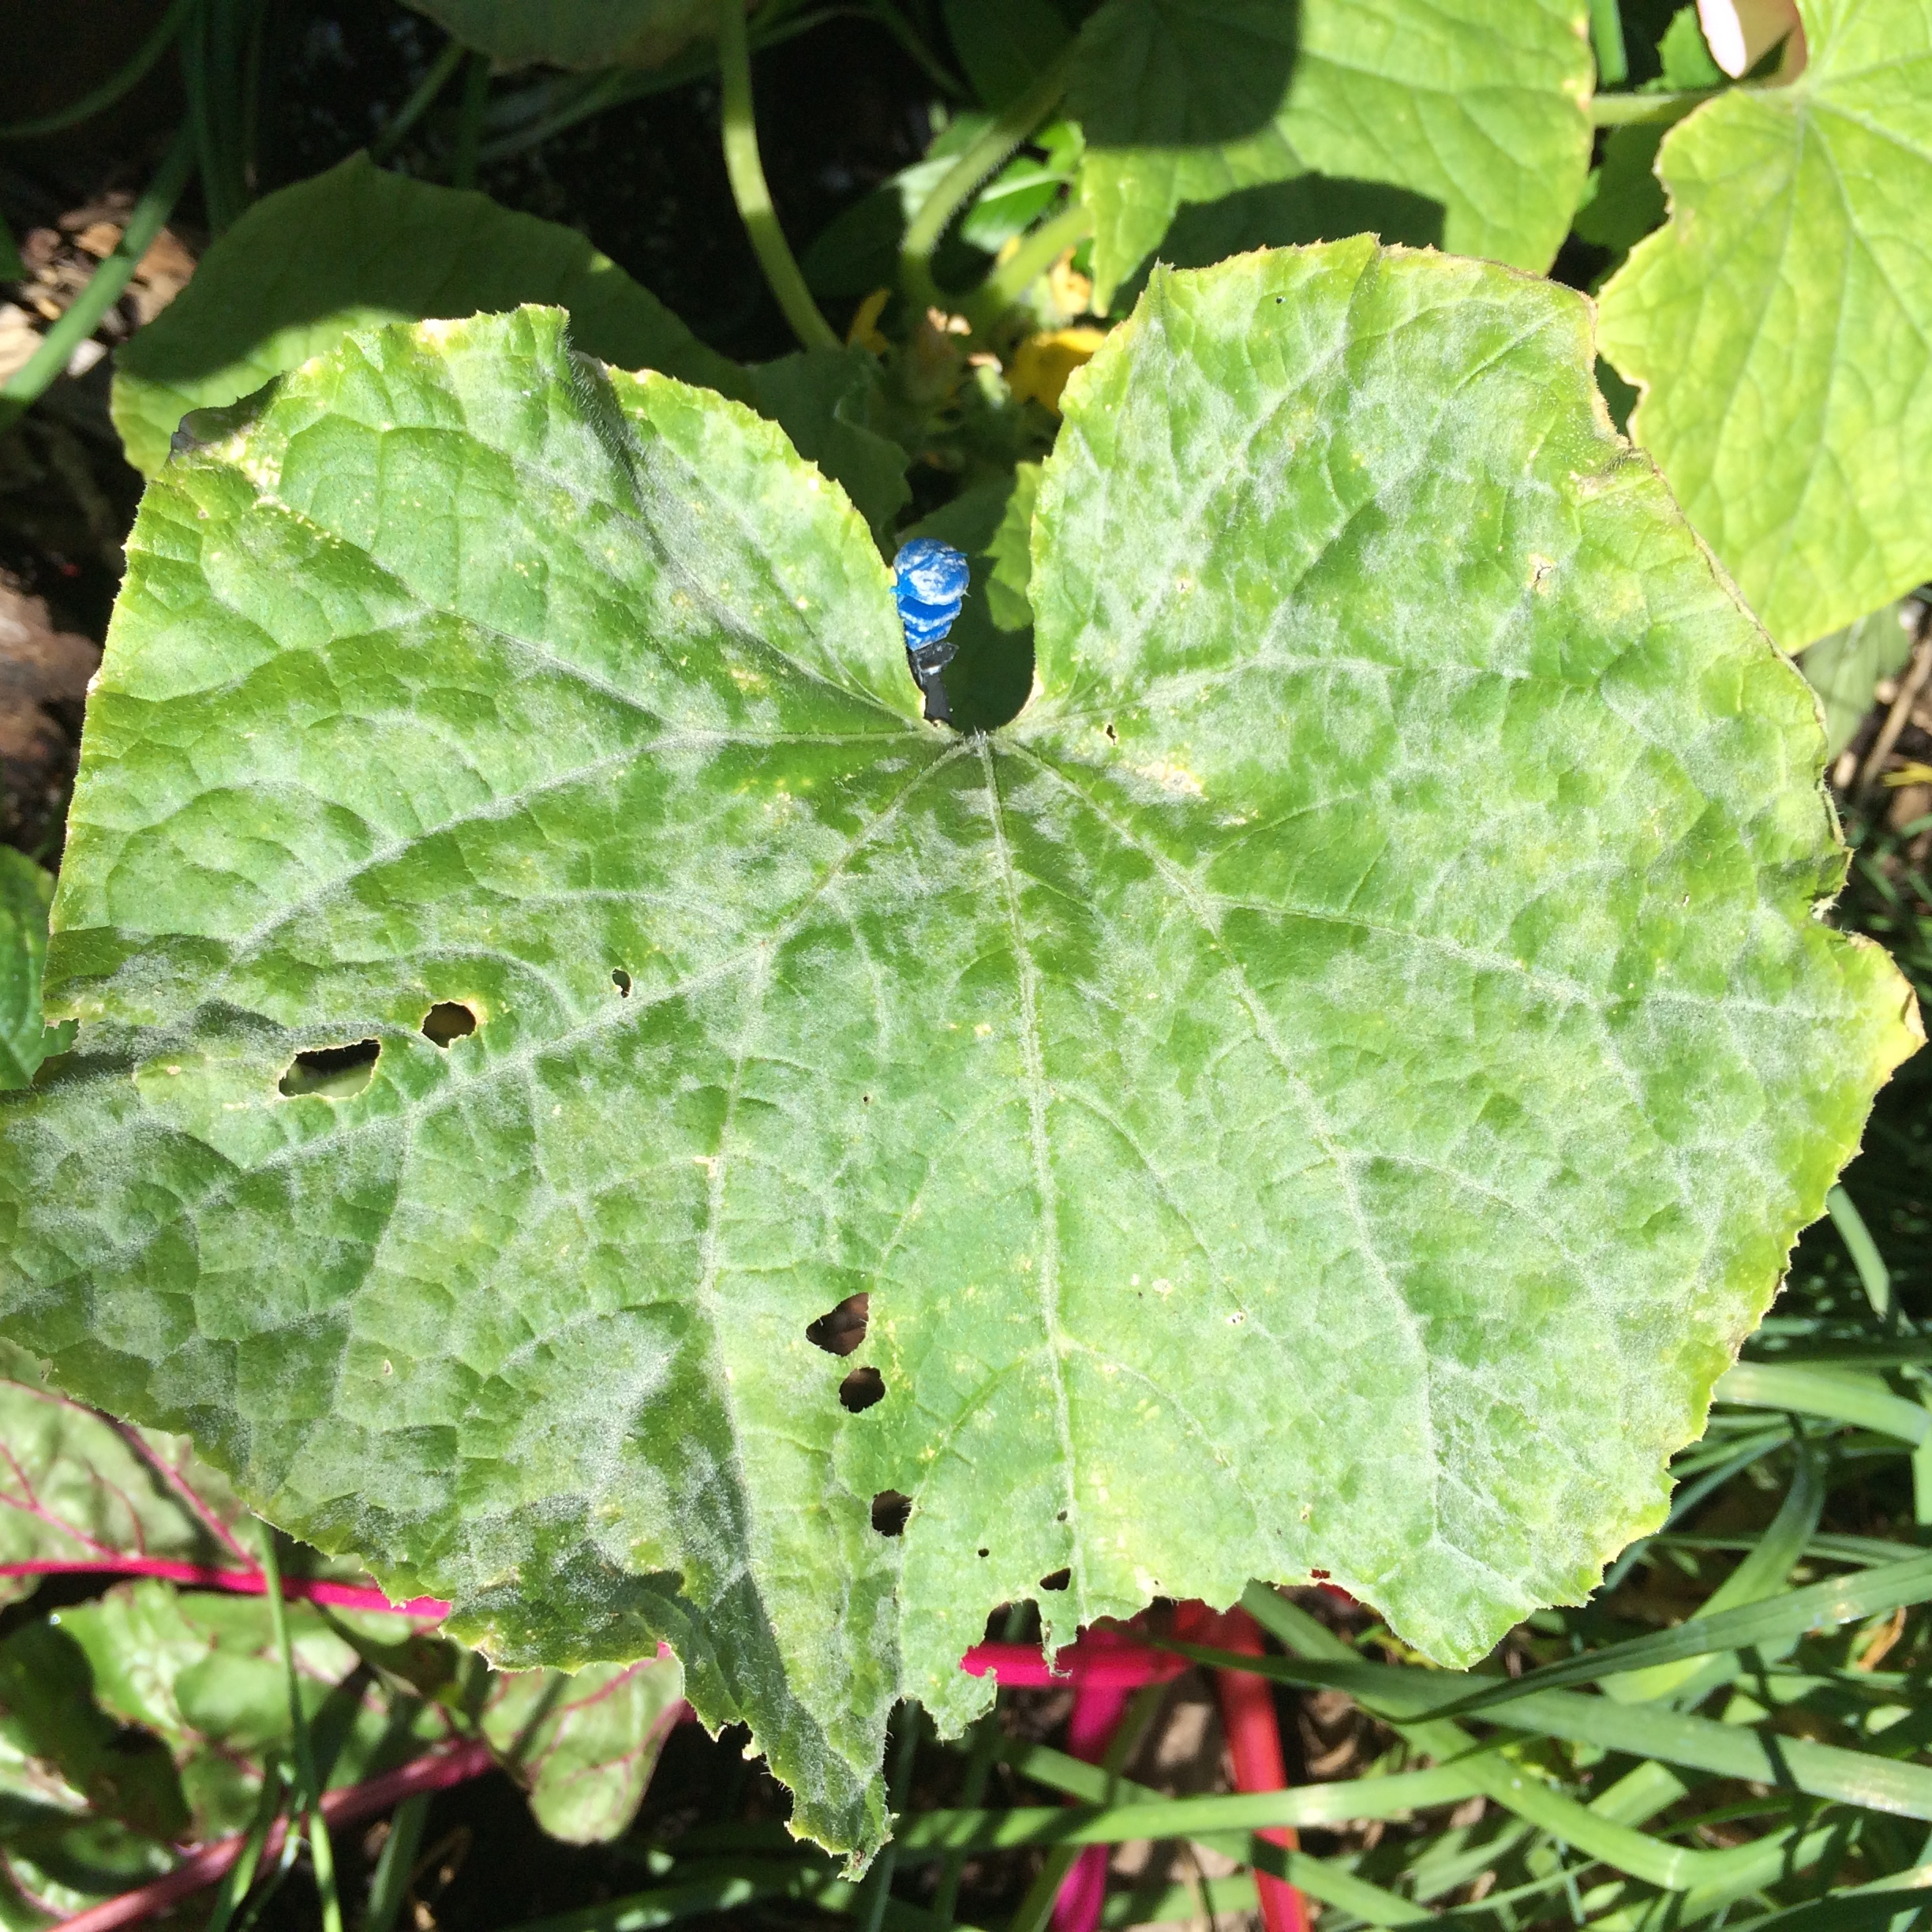Cucumber_PowderyMildew: (161, 382, 1718, 1628)
